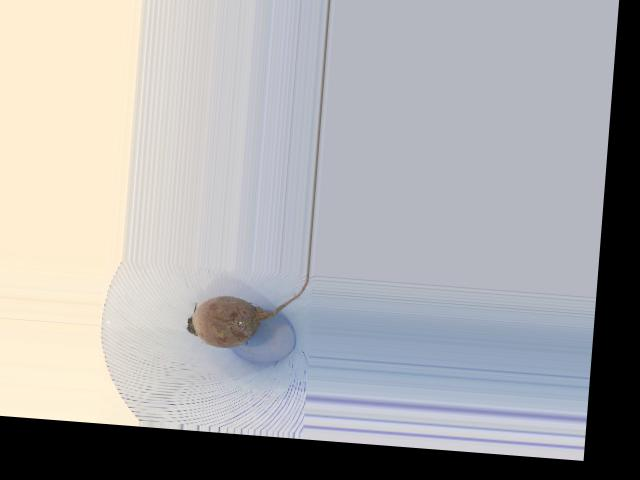beet: (184, 264, 308, 353)
